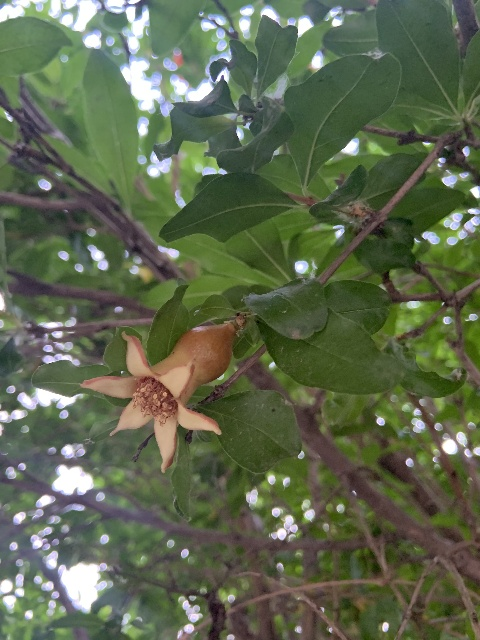early-fruit: (80, 321, 233, 472)
